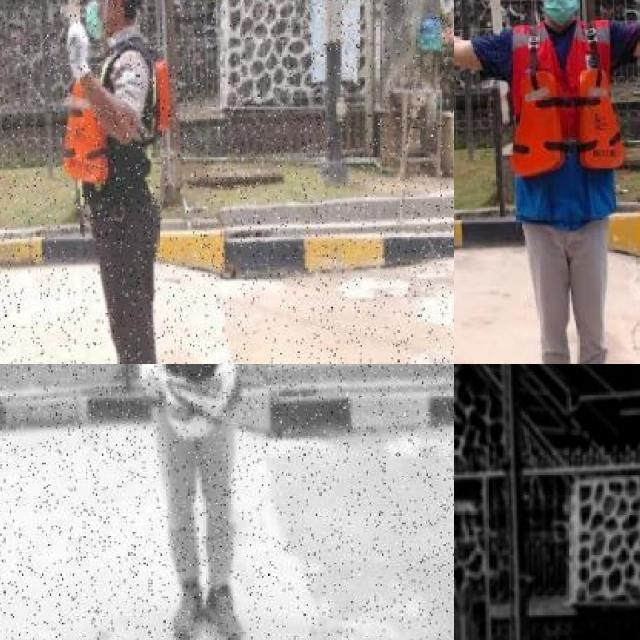apron: (64, 19, 92, 82), (212, 364, 239, 401), (136, 364, 165, 396)
